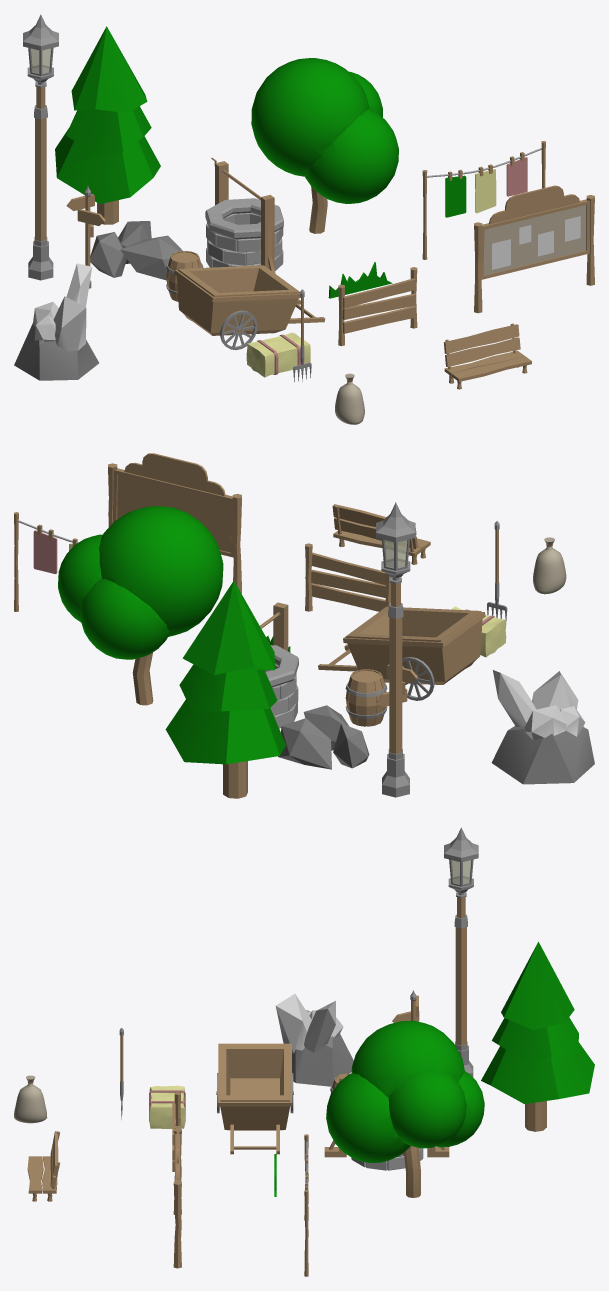
The picture shows the model from 3 angles, top to bottom: view 1: azimuth 30°, elevation 25°; view 2: azimuth 150°, elevation 25°; view 3: azimuth 270°, elevation 25°; orthographic projection. The views are drawn at different scales.
Parts seen in each view (by area): view 1: Wood01, wood02, polySurface5, cart, well, polySurface7, lamp, polySurface4, polySurface6, pCylinder5, Straw, rock2 (+6 smaller); view 2: Wood01, wood02, polySurface7, cart, polySurface5, lamp, pCylinder5, well, polySurface6, Barrel, rock3, polySurface4 (+7 smaller); view 3: Wood01, wood02, cart, polySurface7, lamp, polySurface6, Straw, pSphere1, polySurface5, well, polySurface4.
Boxes of the visible parts, left/top/right/bottom form: Wood01: left=251, top=58, right=398, bottom=233; wood02: left=55, top=26, right=160, bottom=224; polySurface5: left=474, top=185, right=594, bottom=313; cart: left=174, top=265, right=325, bottom=350; well: left=205, top=157, right=283, bottom=273; polySurface7: left=14, top=263, right=98, bottom=380; lamp: left=23, top=14, right=58, bottom=280; polySurface4: left=422, top=141, right=545, bottom=259; polySurface6: left=443, top=323, right=531, bottom=389; pCylinder5: left=338, top=278, right=415, bottom=346; Straw: left=246, top=332, right=310, bottom=377; rock2: left=120, top=235, right=182, bottom=280; Wood01: left=58, top=506, right=223, bottom=705; wood02: left=165, top=581, right=286, bottom=798; polySurface7: left=491, top=670, right=594, bottom=784; cart: left=318, top=606, right=485, bottom=700; polySurface5: left=108, top=453, right=241, bottom=593; lamp: left=376, top=502, right=415, bottom=797; pCylinder5: left=311, top=552, right=390, bottom=611; well: left=260, top=602, right=298, bottom=728; polySurface6: left=332, top=504, right=430, bottom=564; Barrel: left=345, top=669, right=387, bottom=726; rock3: left=278, top=718, right=331, bottom=769; polySurface4: left=14, top=512, right=78, bottom=611; Wood01: left=326, top=1020, right=484, bottom=1197; wood02: left=481, top=942, right=594, bottom=1131; cart: left=216, top=1043, right=293, bottom=1154; polySurface7: left=275, top=994, right=353, bottom=1086; lamp: left=444, top=827, right=478, bottom=1077; polySurface6: left=27, top=1131, right=60, bottom=1201; Straw: left=149, top=1085, right=185, bottom=1128; pSphere1: left=14, top=1075, right=47, bottom=1123; polySurface5: left=173, top=1127, right=181, bottom=1268; well: left=324, top=1074, right=449, bottom=1170; polySurface4: left=304, top=1134, right=308, bottom=1276.
Size of the model in its own units: 2464 by 1269 by 2485.
